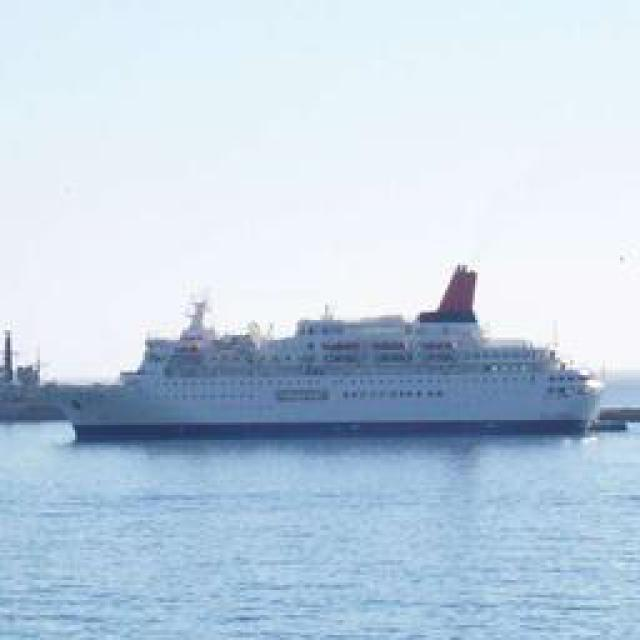Ship: (25, 266, 618, 436)
